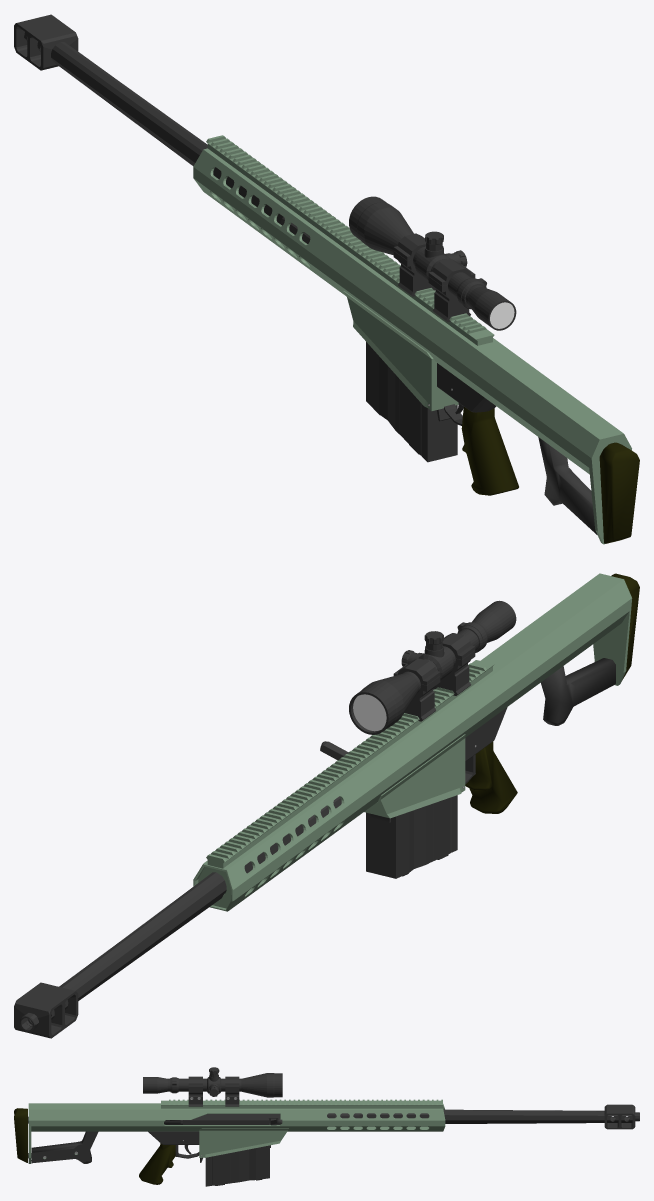
The model's file is sniper.glb.
The picture shows the model from 3 angles, top to bottom: view 1: azimuth 30°, elevation 25°; view 2: azimuth 150°, elevation 25°; view 3: azimuth 270°, elevation 25°; orthographic projection. The views are drawn at different scales.
Parts seen in each view (by area): view 1: Scope; view 2: Scope; view 3: Scope.
Part boxes in pixels (x1,y1,x2,y2): Scope: [14, 14, 639, 544]; Scope: [14, 573, 639, 1038]; Scope: [14, 1067, 639, 1186].
Size of the model in its own units: 0.3608 by 1.07 by 5.33.
